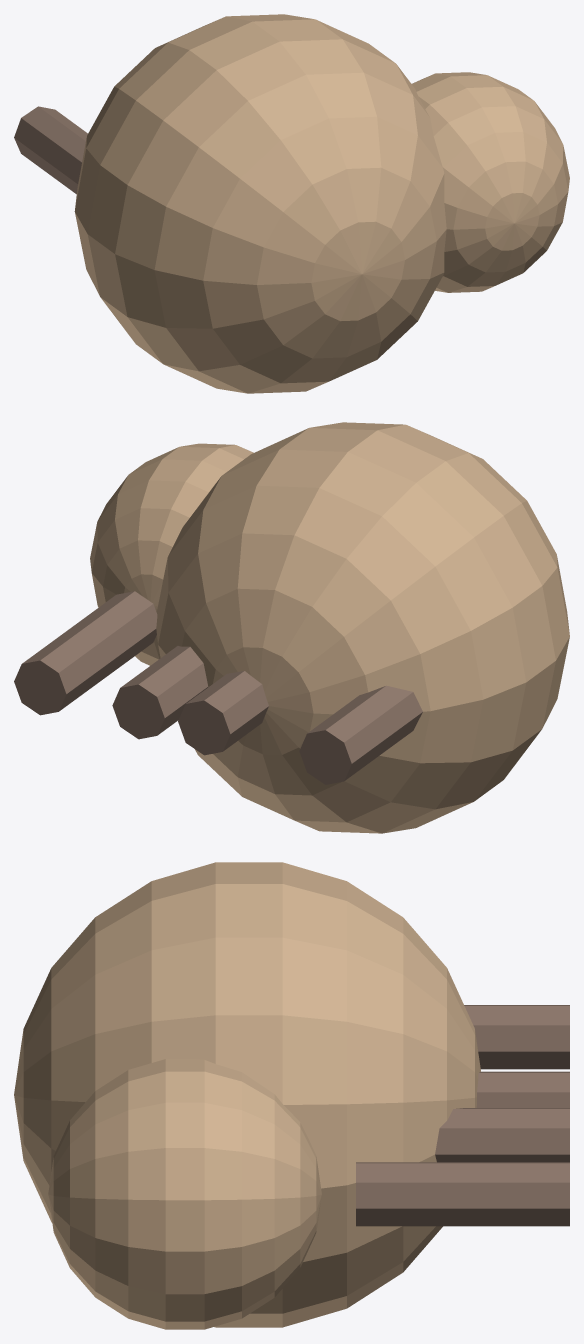
Rendered from Dog.glb.
The picture shows the model from 3 angles, top to bottom: view 1: azimuth 30°, elevation 25°; view 2: azimuth 150°, elevation 25°; view 3: azimuth 270°, elevation 25°; orthographic projection. The views are drawn at different scales.
Parts seen in each view (by area): view 1: body, head, leg1; view 2: body, head, leg4, leg1, leg3, leg2; view 3: body, head, leg4, leg3, leg1, leg2.
Boxes of the visible parts, x1,y1,x2,y2 form: body: [74, 14, 446, 393]; head: [412, 72, 569, 292]; leg1: [14, 106, 87, 193]; body: [156, 422, 569, 833]; head: [90, 443, 253, 665]; leg4: [14, 591, 157, 715]; leg1: [299, 685, 422, 784]; leg3: [112, 646, 208, 739]; leg2: [178, 671, 268, 755]; body: [14, 862, 480, 1327]; head: [48, 1059, 321, 1329]; leg4: [356, 1162, 569, 1226]; leg3: [435, 1108, 569, 1162]; leg1: [464, 1005, 569, 1069]; leg2: [476, 1071, 569, 1107].
Size of the model in its own units: 0.9172 by 0.7077 by 0.845.
